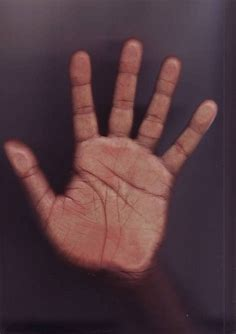palm: (3, 37, 219, 283)
